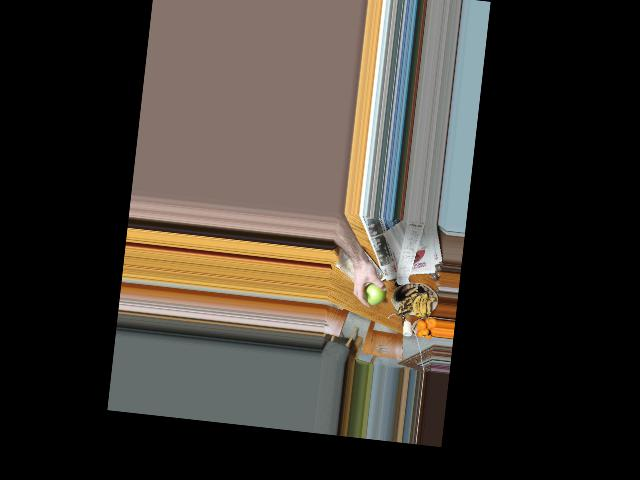apple: (360, 279, 386, 308)
